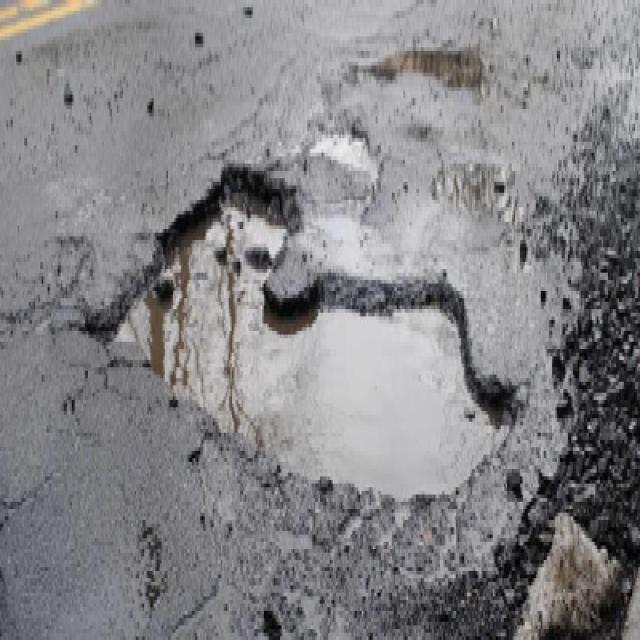jalan_berlubang: (101, 185, 522, 539)
